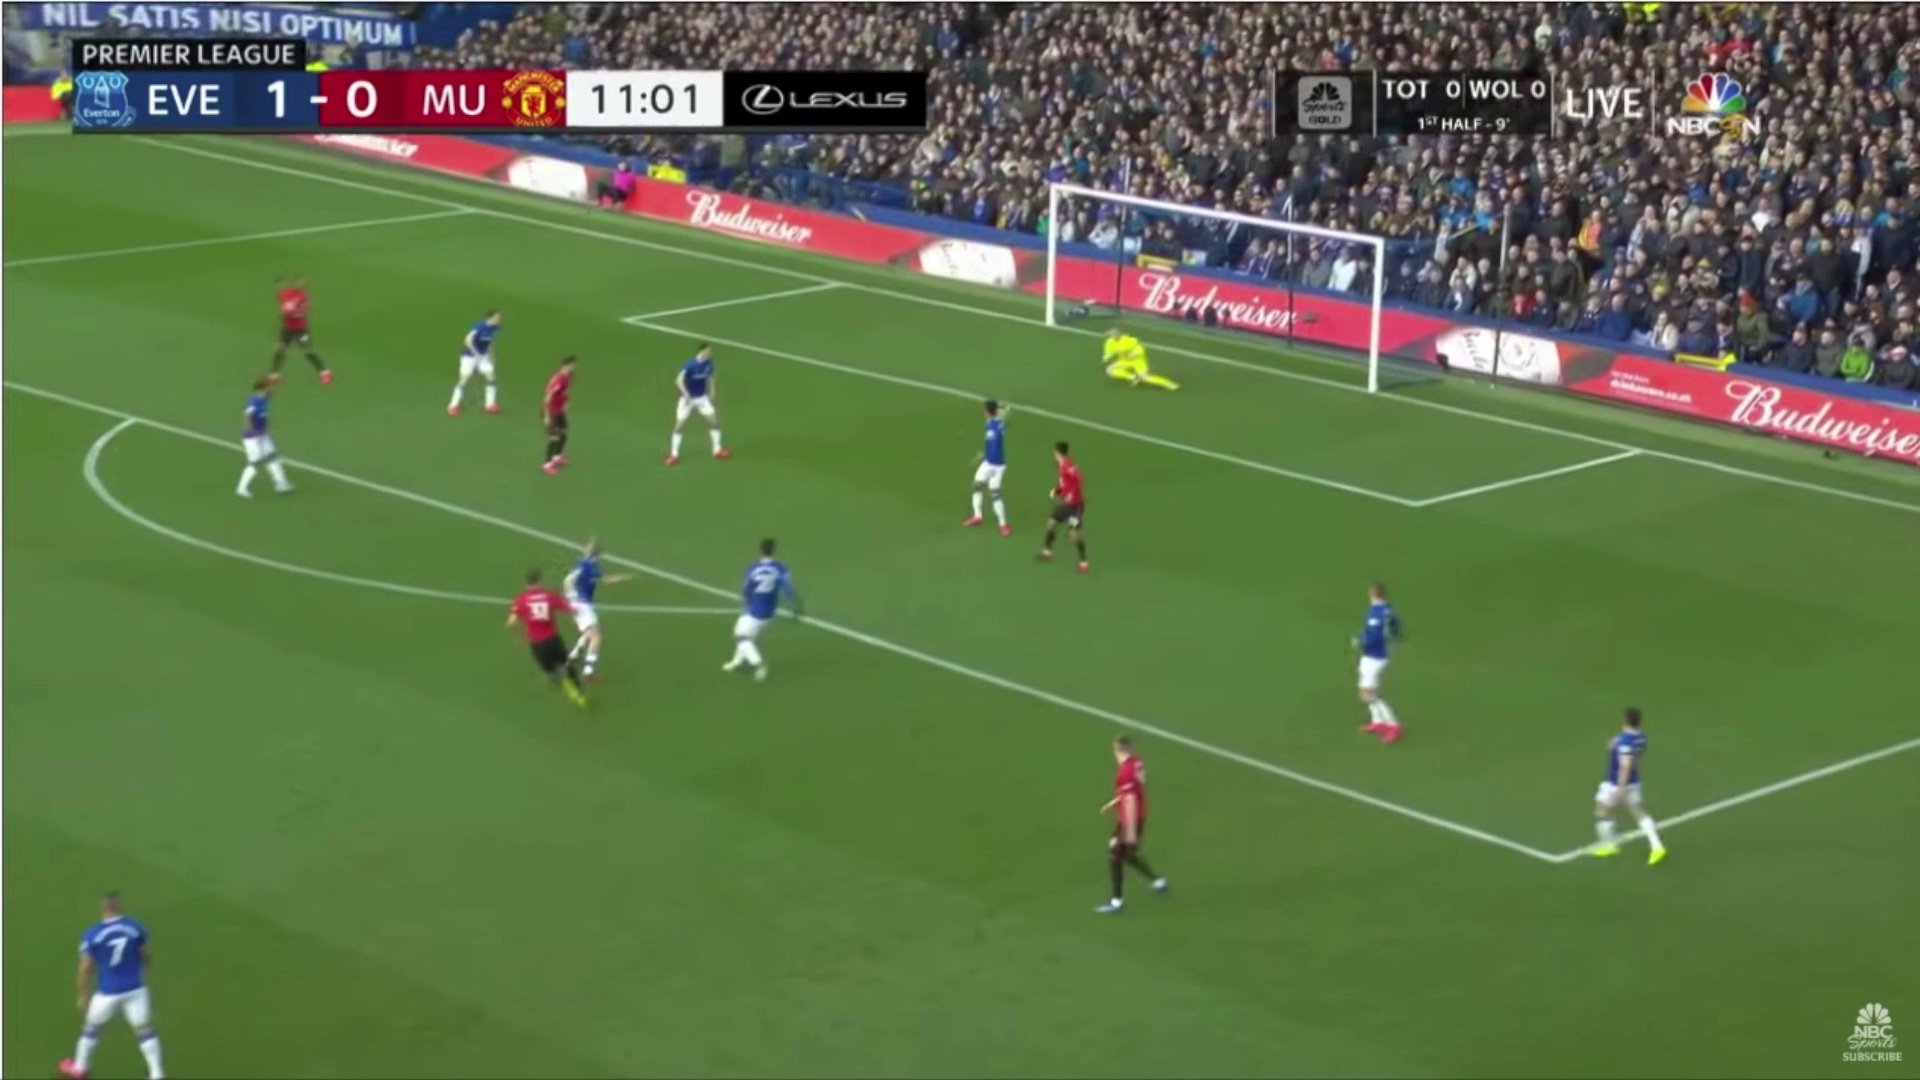player: (37, 871, 185, 1080), (1585, 685, 1695, 885), (1327, 567, 1437, 760), (1085, 719, 1179, 925), (714, 529, 816, 710), (491, 563, 585, 713), (222, 375, 312, 521), (1035, 419, 1106, 592), (656, 340, 749, 467), (552, 533, 631, 677), (952, 383, 1022, 544), (527, 338, 604, 483), (1085, 313, 1185, 406), (449, 294, 514, 427), (268, 265, 339, 381)
